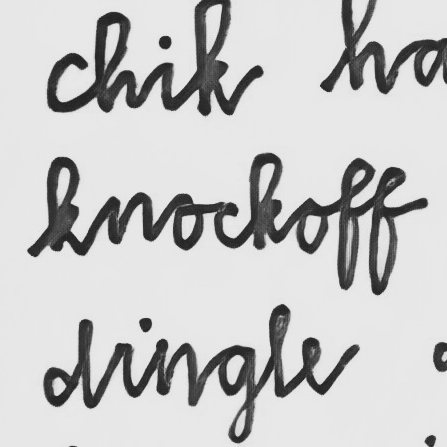c: (210, 198, 243, 250)
f: (365, 165, 409, 299), (335, 155, 377, 292)
k: (43, 154, 88, 256), (245, 150, 286, 253)
n: (105, 190, 154, 248)
o: (168, 191, 207, 252), (292, 195, 331, 256)
